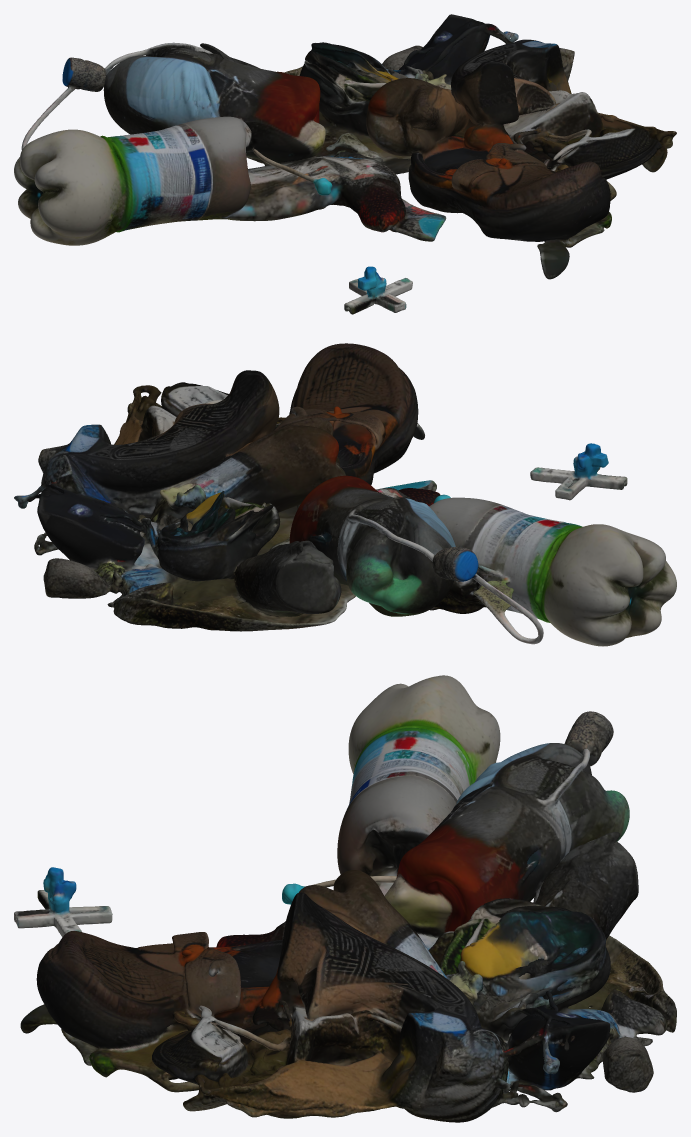
The model's file is tripo_convert_f51ca352-38bf-4401-8a45-94e2c13f1768.fbx.
3 views of the same model, one above another, from view 1: azimuth 30°, elevation 25°; view 2: azimuth 150°, elevation 25°; view 3: azimuth 270°, elevation 25° (orthographic). The views are drawn at different scales.
Parts seen in each view (by area): view 1: tripo_node_f51ca352; view 2: tripo_node_f51ca352; view 3: tripo_node_f51ca352.
Boxes of the visible parts, <box> form: tripo_node_f51ca352: <box>14,14,676,314</box>; tripo_node_f51ca352: <box>14,343,676,646</box>; tripo_node_f51ca352: <box>14,675,676,1122</box>.
Bounding box in the file's own units: 1 × 0.2175 × 0.7875.
Materials: 1 (1 with a texture image).
